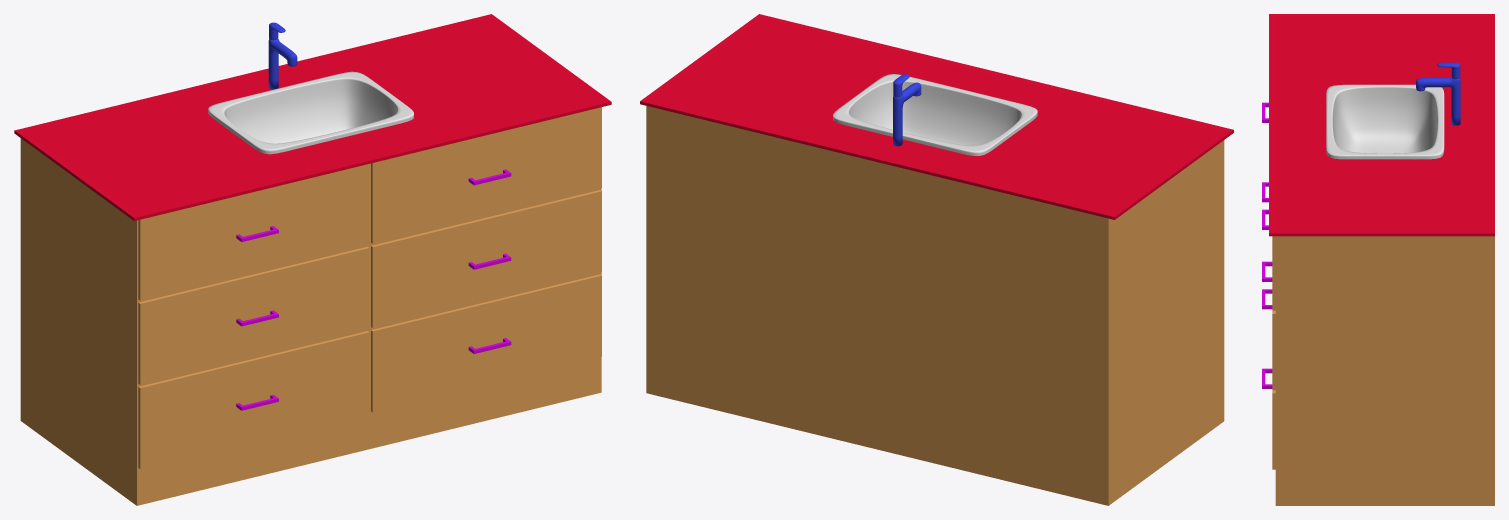
File: BathroomSinkCabinet.fbx
The picture shows the model from 3 angles, left to right: view 1: azimuth 30°, elevation 25°; view 2: azimuth 150°, elevation 25°; view 3: azimuth 270°, elevation 25°; orthographic projection. The views are drawn at different scales.
Visible parts, largest first — view 1: Cube; view 2: Cube; view 3: Cube.
Part boxes in pixels (<box>): Cube: <box>14,14,611,505</box>; Cube: <box>640,14,1233,505</box>; Cube: <box>1262,14,1494,505</box>.
Bounding box in the file's own units: 154 × 110 × 69.
